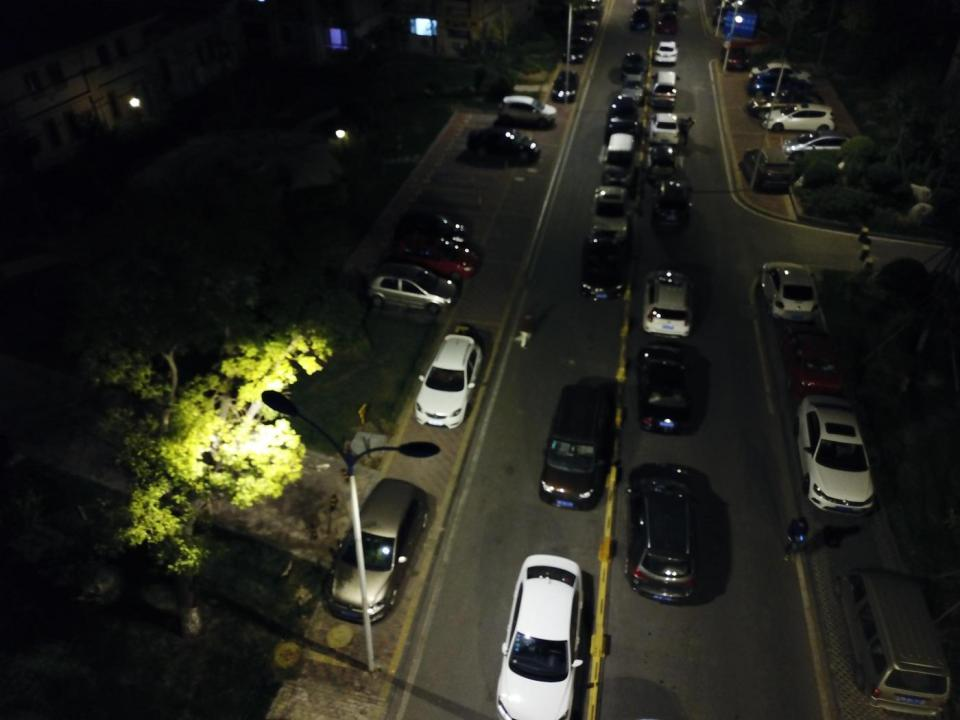car: (327, 472, 433, 625), (492, 550, 584, 720), (530, 382, 616, 512), (793, 389, 878, 518), (623, 466, 697, 602), (406, 333, 482, 430), (784, 318, 851, 400), (637, 340, 692, 437), (368, 258, 457, 313), (385, 231, 481, 281), (752, 255, 821, 323), (639, 264, 691, 338), (463, 125, 546, 168), (580, 235, 628, 308), (405, 206, 476, 248), (742, 144, 800, 193), (783, 128, 862, 163), (589, 181, 632, 243), (652, 171, 695, 233), (764, 99, 839, 133), (749, 88, 827, 118), (493, 92, 558, 127), (648, 110, 691, 148), (750, 62, 810, 87), (752, 71, 811, 96), (548, 64, 584, 103), (650, 68, 682, 108), (607, 95, 640, 133), (646, 142, 678, 180), (719, 42, 750, 72), (652, 39, 680, 67), (618, 73, 644, 102), (560, 40, 588, 66), (628, 4, 652, 34), (655, 9, 680, 37), (621, 51, 646, 76), (576, 16, 599, 43)
van: (828, 558, 953, 717), (599, 132, 634, 188)
